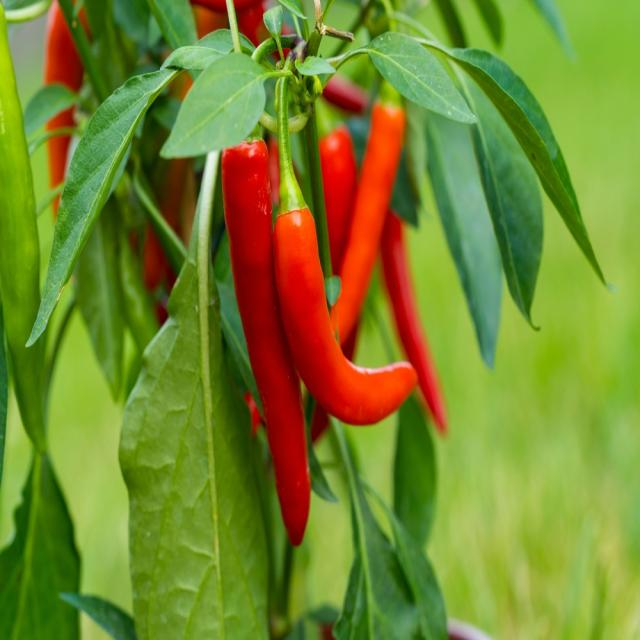Ripe: (221, 139, 310, 545), (274, 208, 418, 424), (331, 101, 405, 344), (381, 210, 446, 433), (319, 126, 358, 273)
Unripe: (0, 4, 48, 454)
